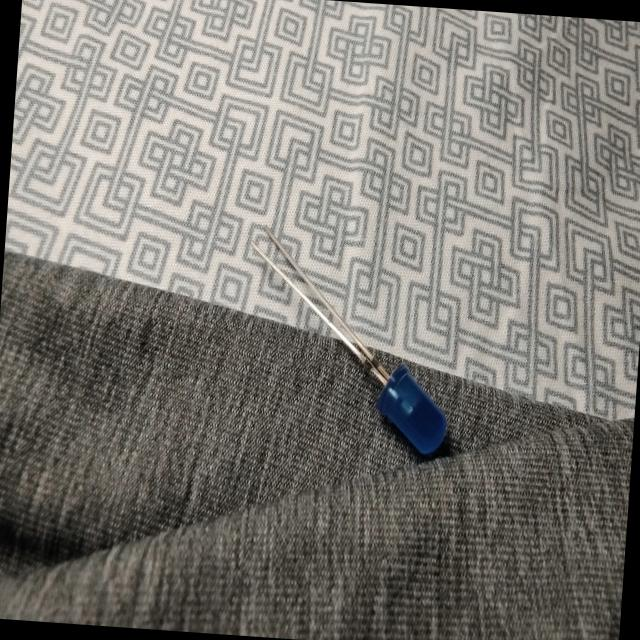blue_led: (371, 360, 451, 457)
